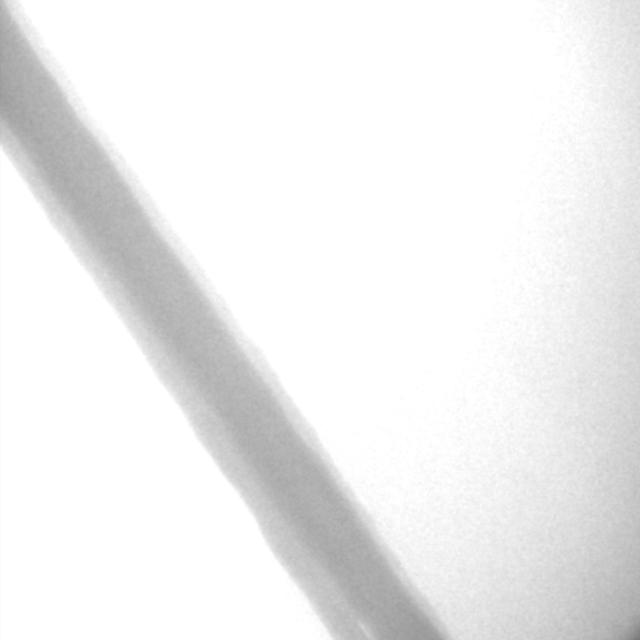air hole: (358, 624, 372, 640)
